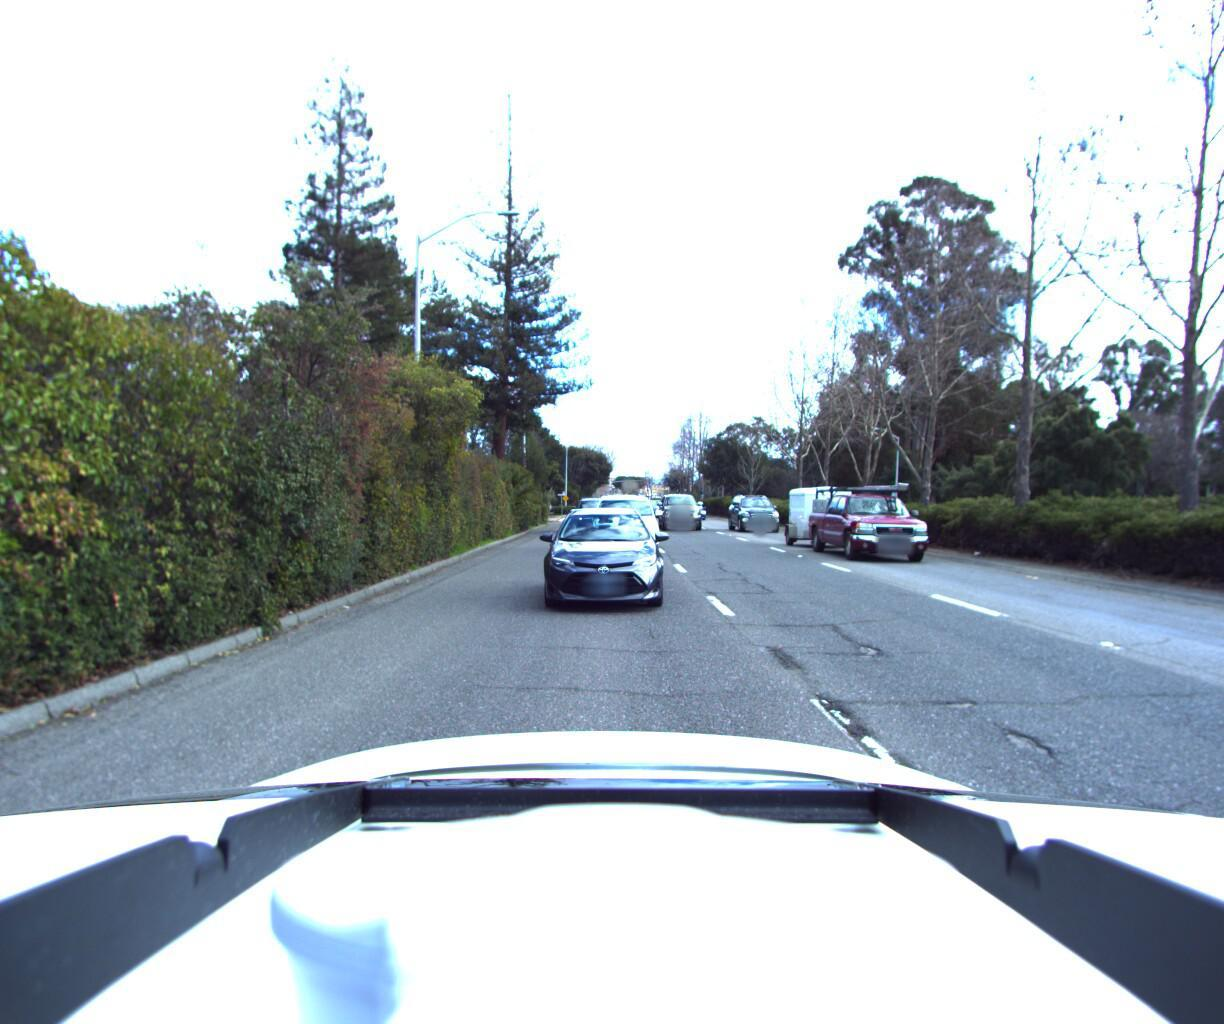car: (785, 475, 958, 571), (538, 508, 674, 623), (593, 496, 664, 560), (728, 497, 788, 537), (659, 498, 709, 537)
